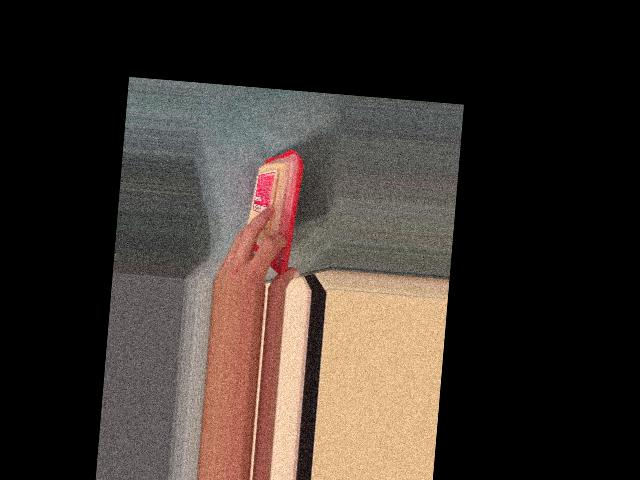cheese: (243, 145, 305, 277)
